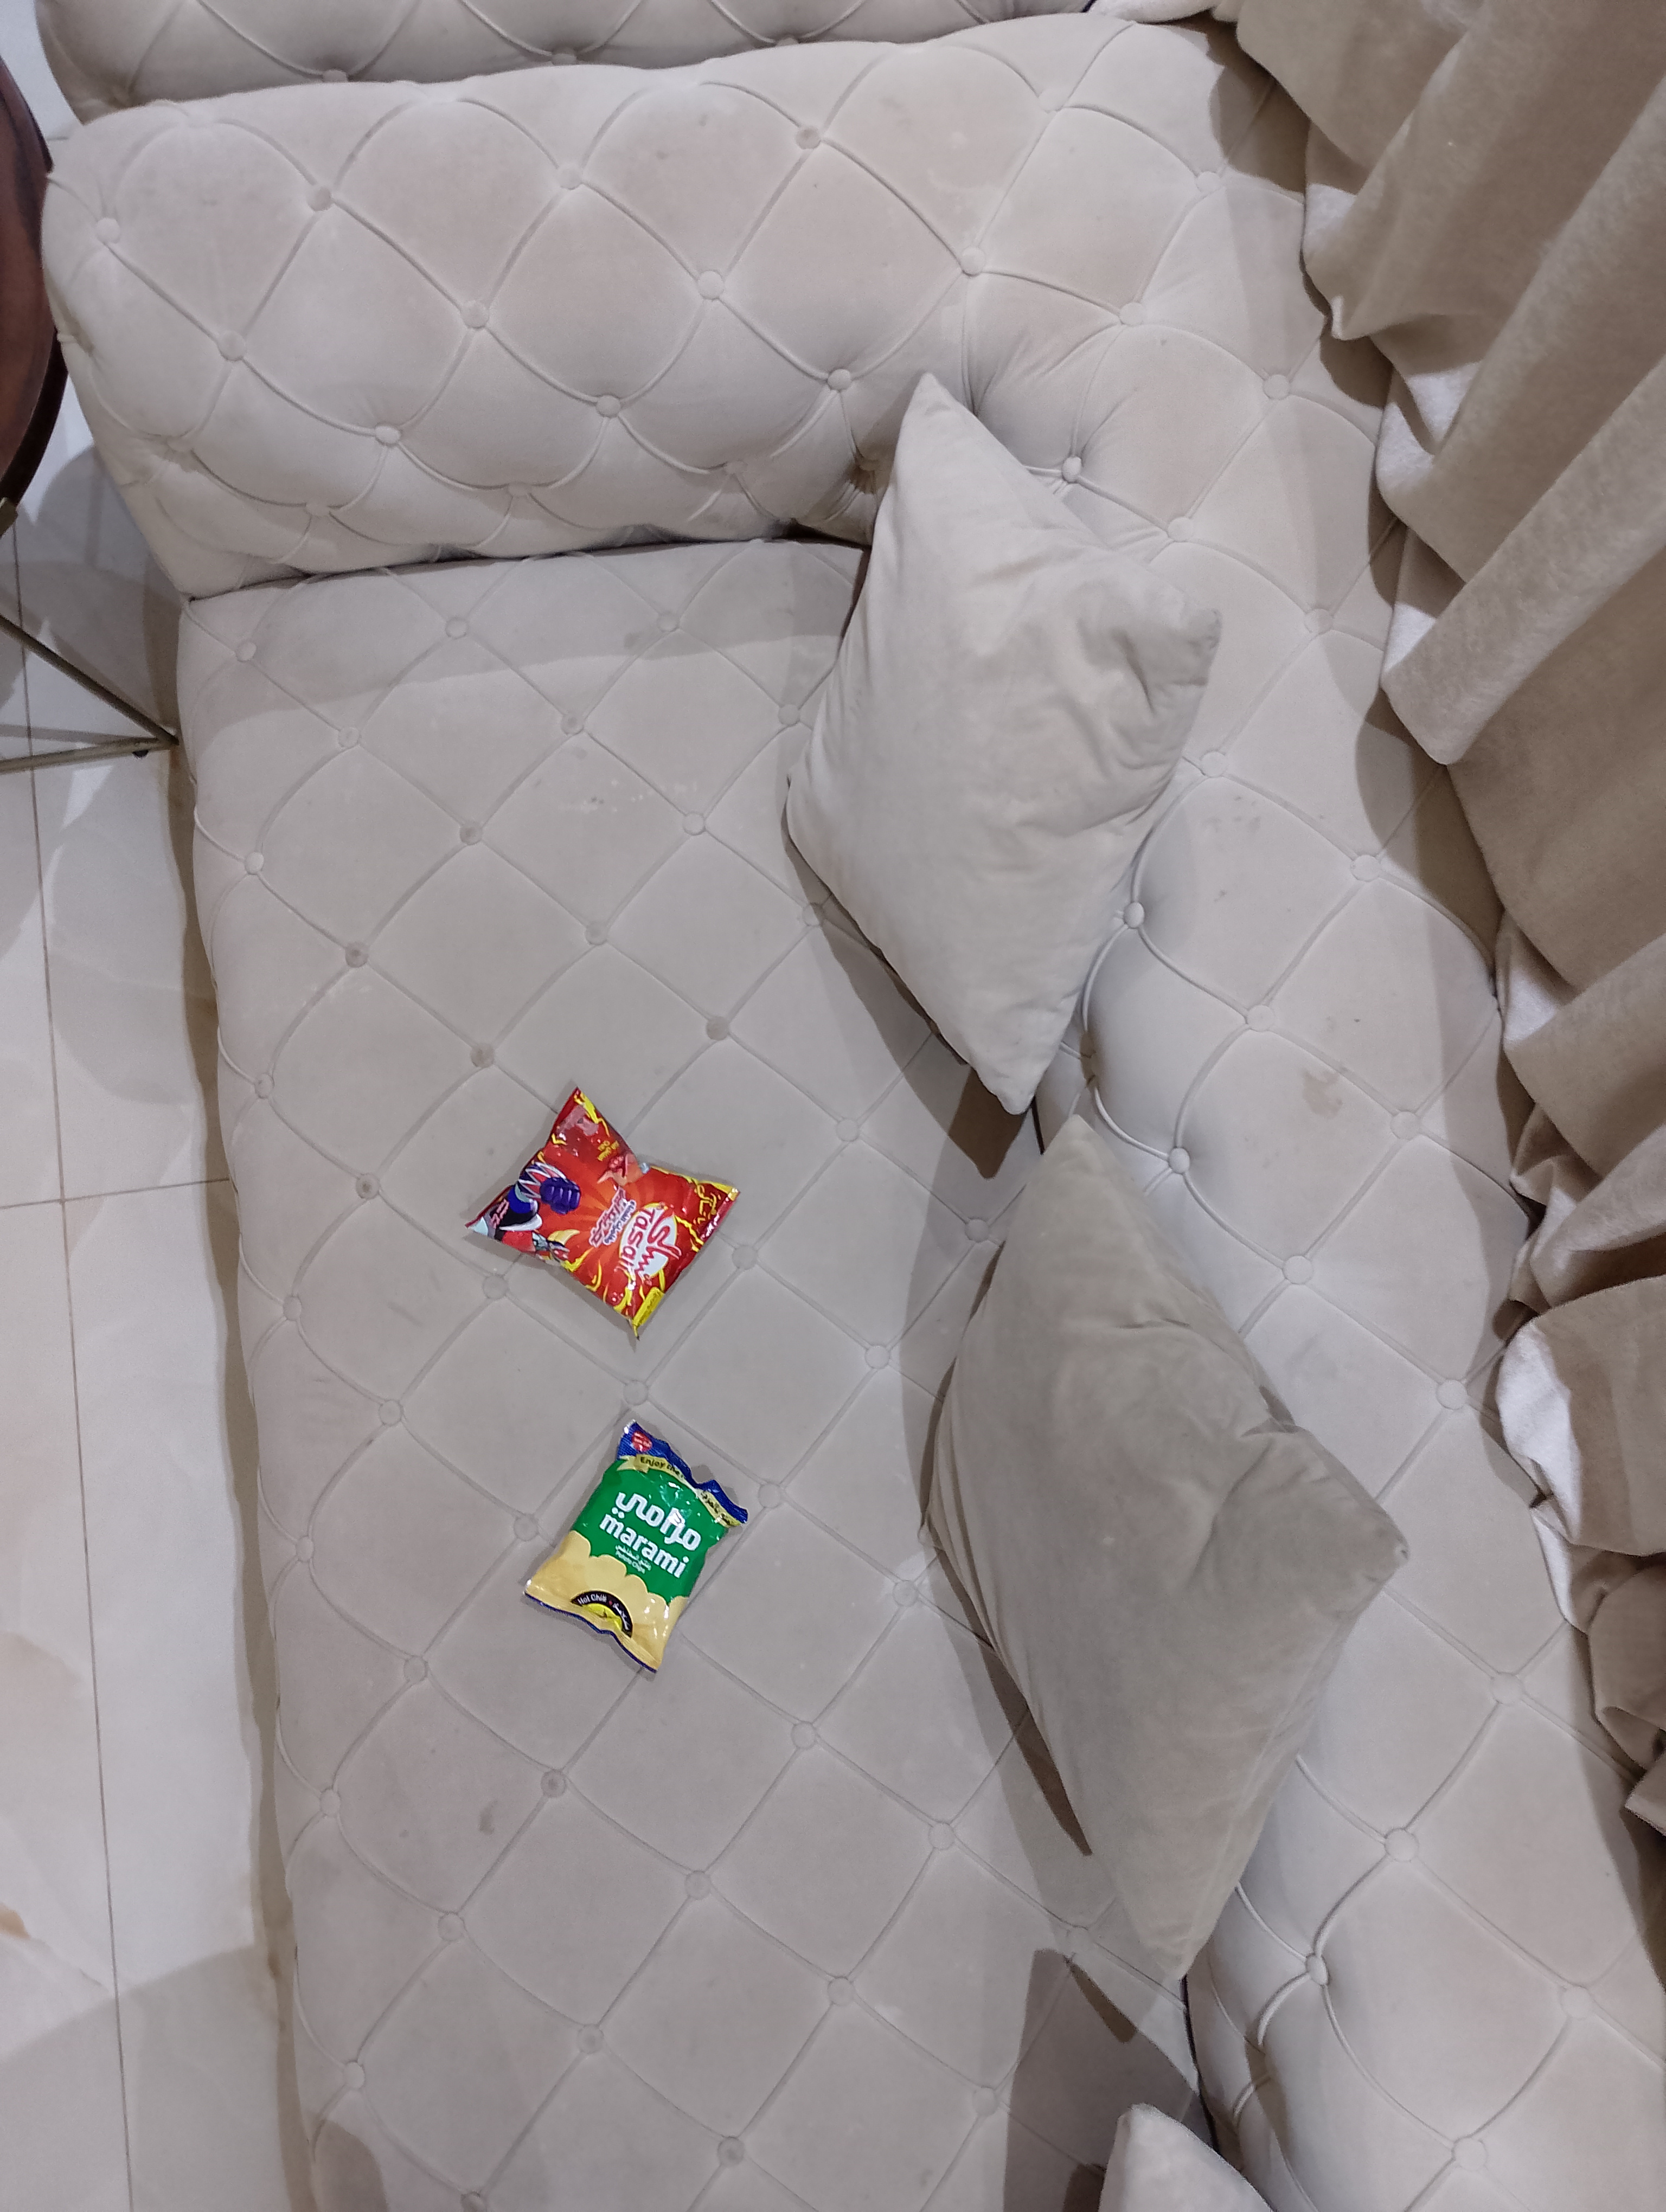marami_hot_chili: (520, 1418, 749, 1675)
tasali_hot_chili: (464, 1084, 742, 1343)
